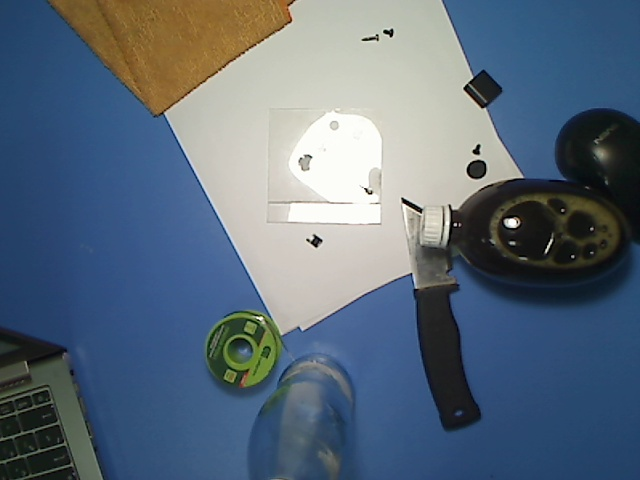plast_bottle: (411, 169, 636, 298)
